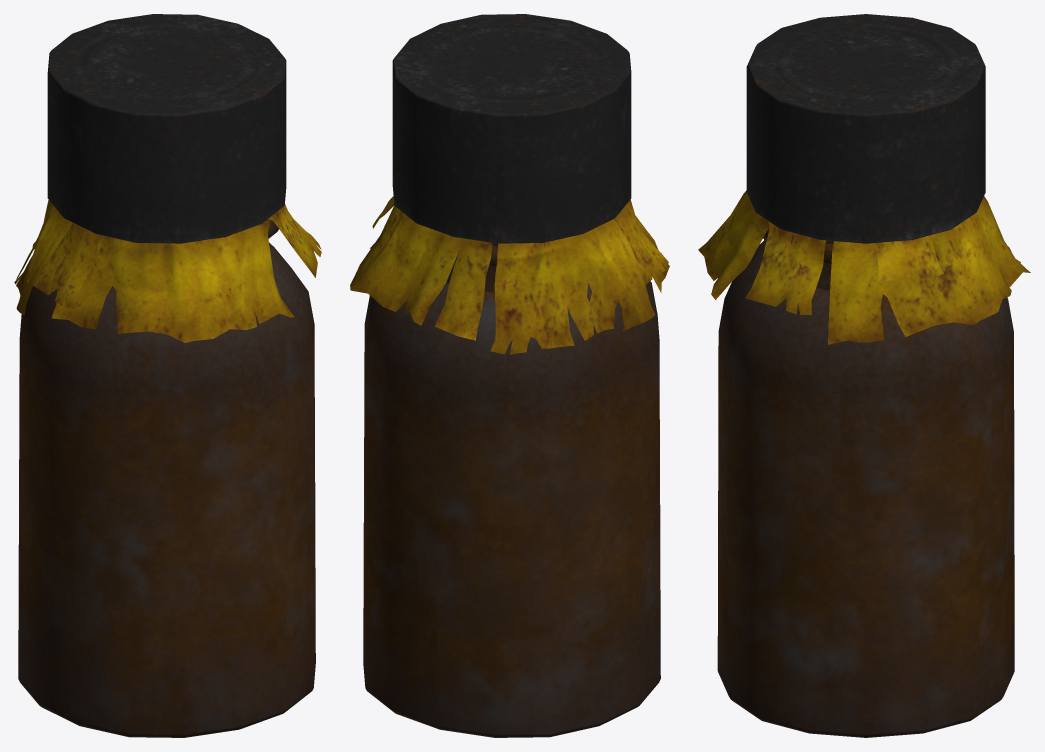
File: ritualBottle.fbx
The picture shows the model from 3 angles, left to right: view 1: azimuth 30°, elevation 25°; view 2: azimuth 150°, elevation 25°; view 3: azimuth 270°, elevation 25°; orthographic projection.
Parts seen in each view (by area): view 1: ritualBottle; view 2: ritualBottle; view 3: ritualBottle.
Boxes of the visible parts, bbox=[...] form: ritualBottle: bbox=[14, 14, 321, 737]; ritualBottle: bbox=[350, 14, 669, 737]; ritualBottle: bbox=[698, 14, 1030, 737].
Size of the model in its own units: 3.54 by 7.49 by 3.68.
